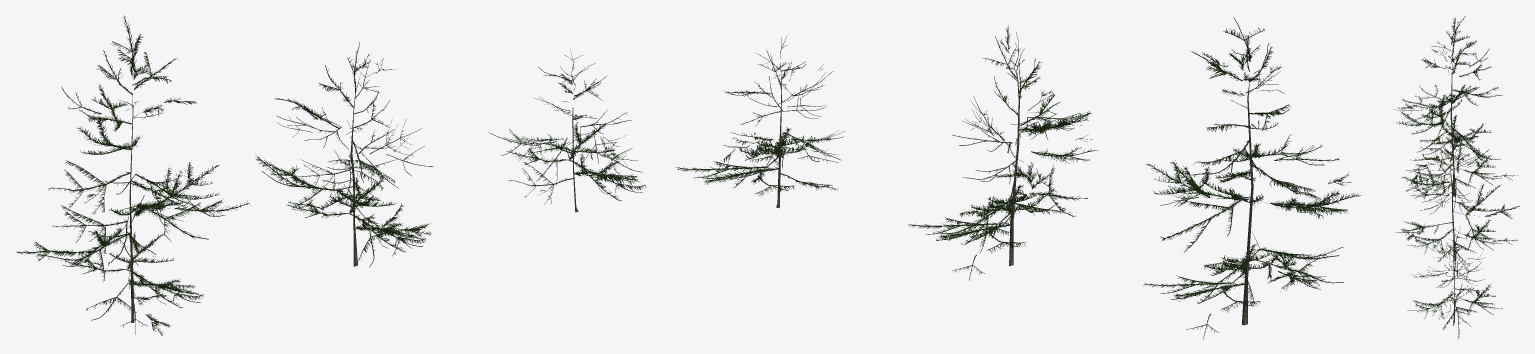
File: fir_sapling.glb
3 views of the same model, side by side, from view 1: azimuth 30°, elevation 25°; view 2: azimuth 150°, elevation 25°; view 3: azimuth 270°, elevation 25° (orthographic). The views are drawn at different scales.
Bounding box in the file's own units: 2.74 × 1.3 × 0.8225.
2 materials, 1 textured.
